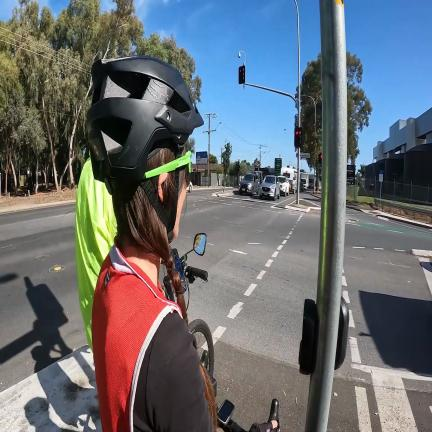Green_Bike_Lane: (346, 216, 432, 241)
